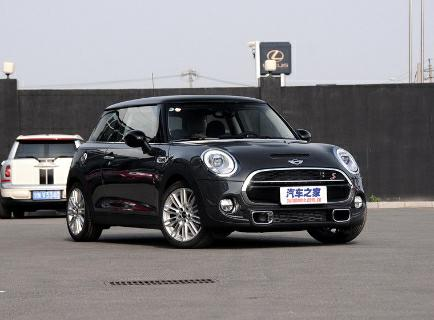MINI: (49, 88, 387, 254)
